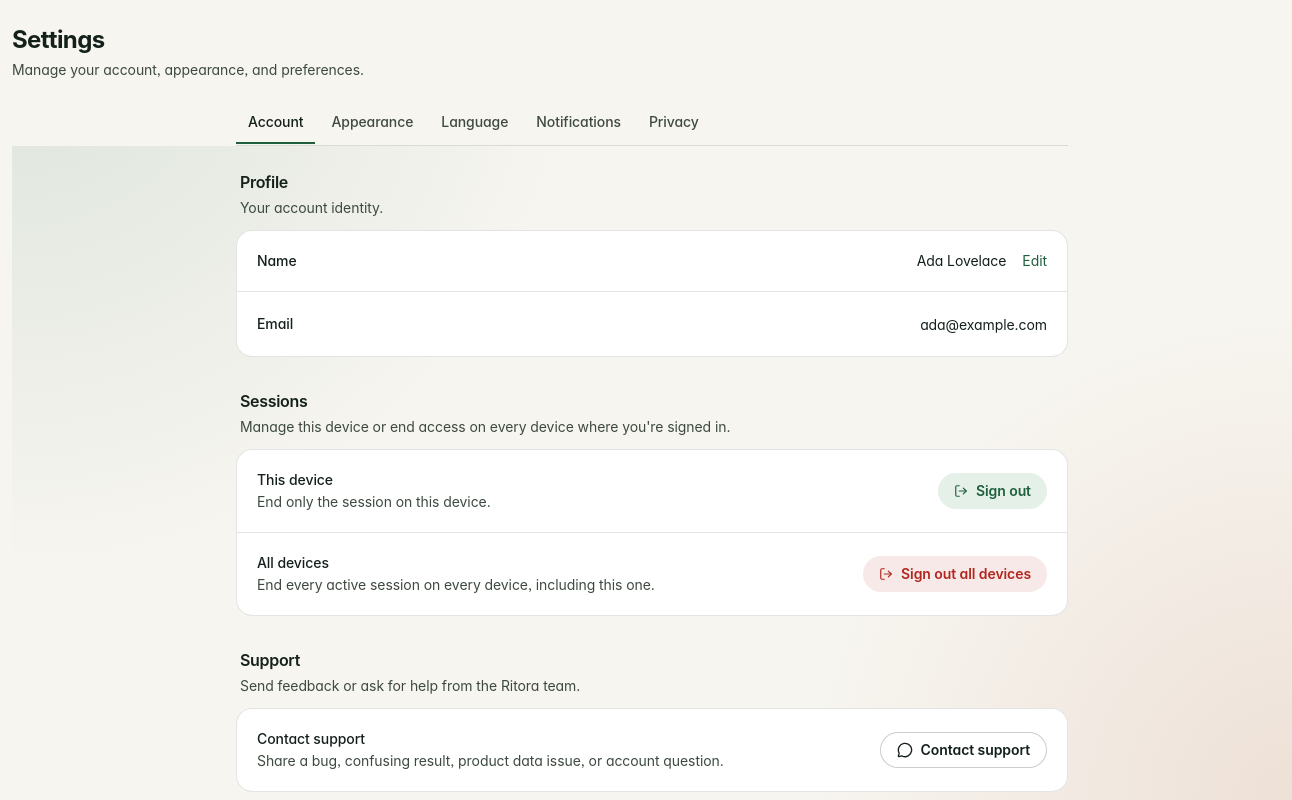
SettingsPage › switches to Appearance tab and shows theme controls
Click the tab "Appearance" at (372,124), box 320,104 -> 425,144
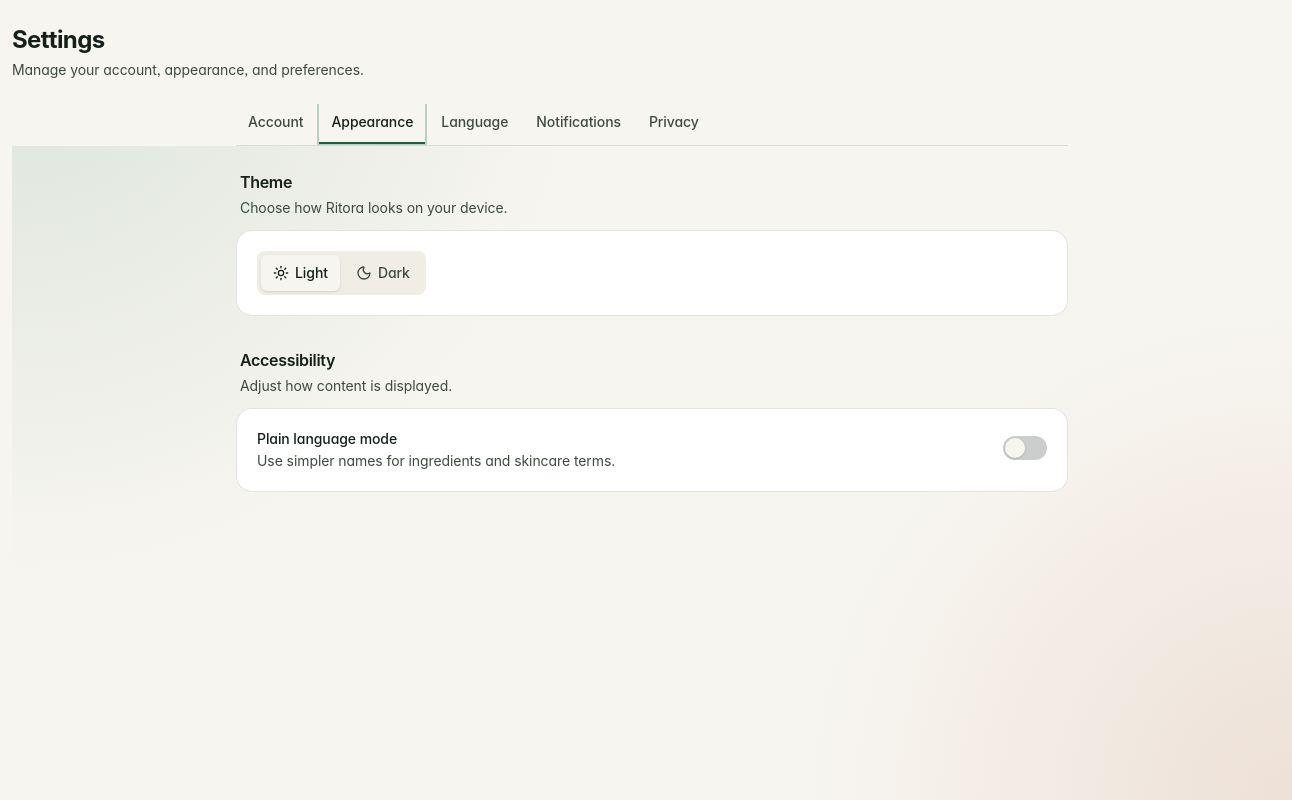
Now the button "Light" is shown, box 261,255 -> 340,291
Now the button "Dark" is shown, box 344,255 -> 422,291
